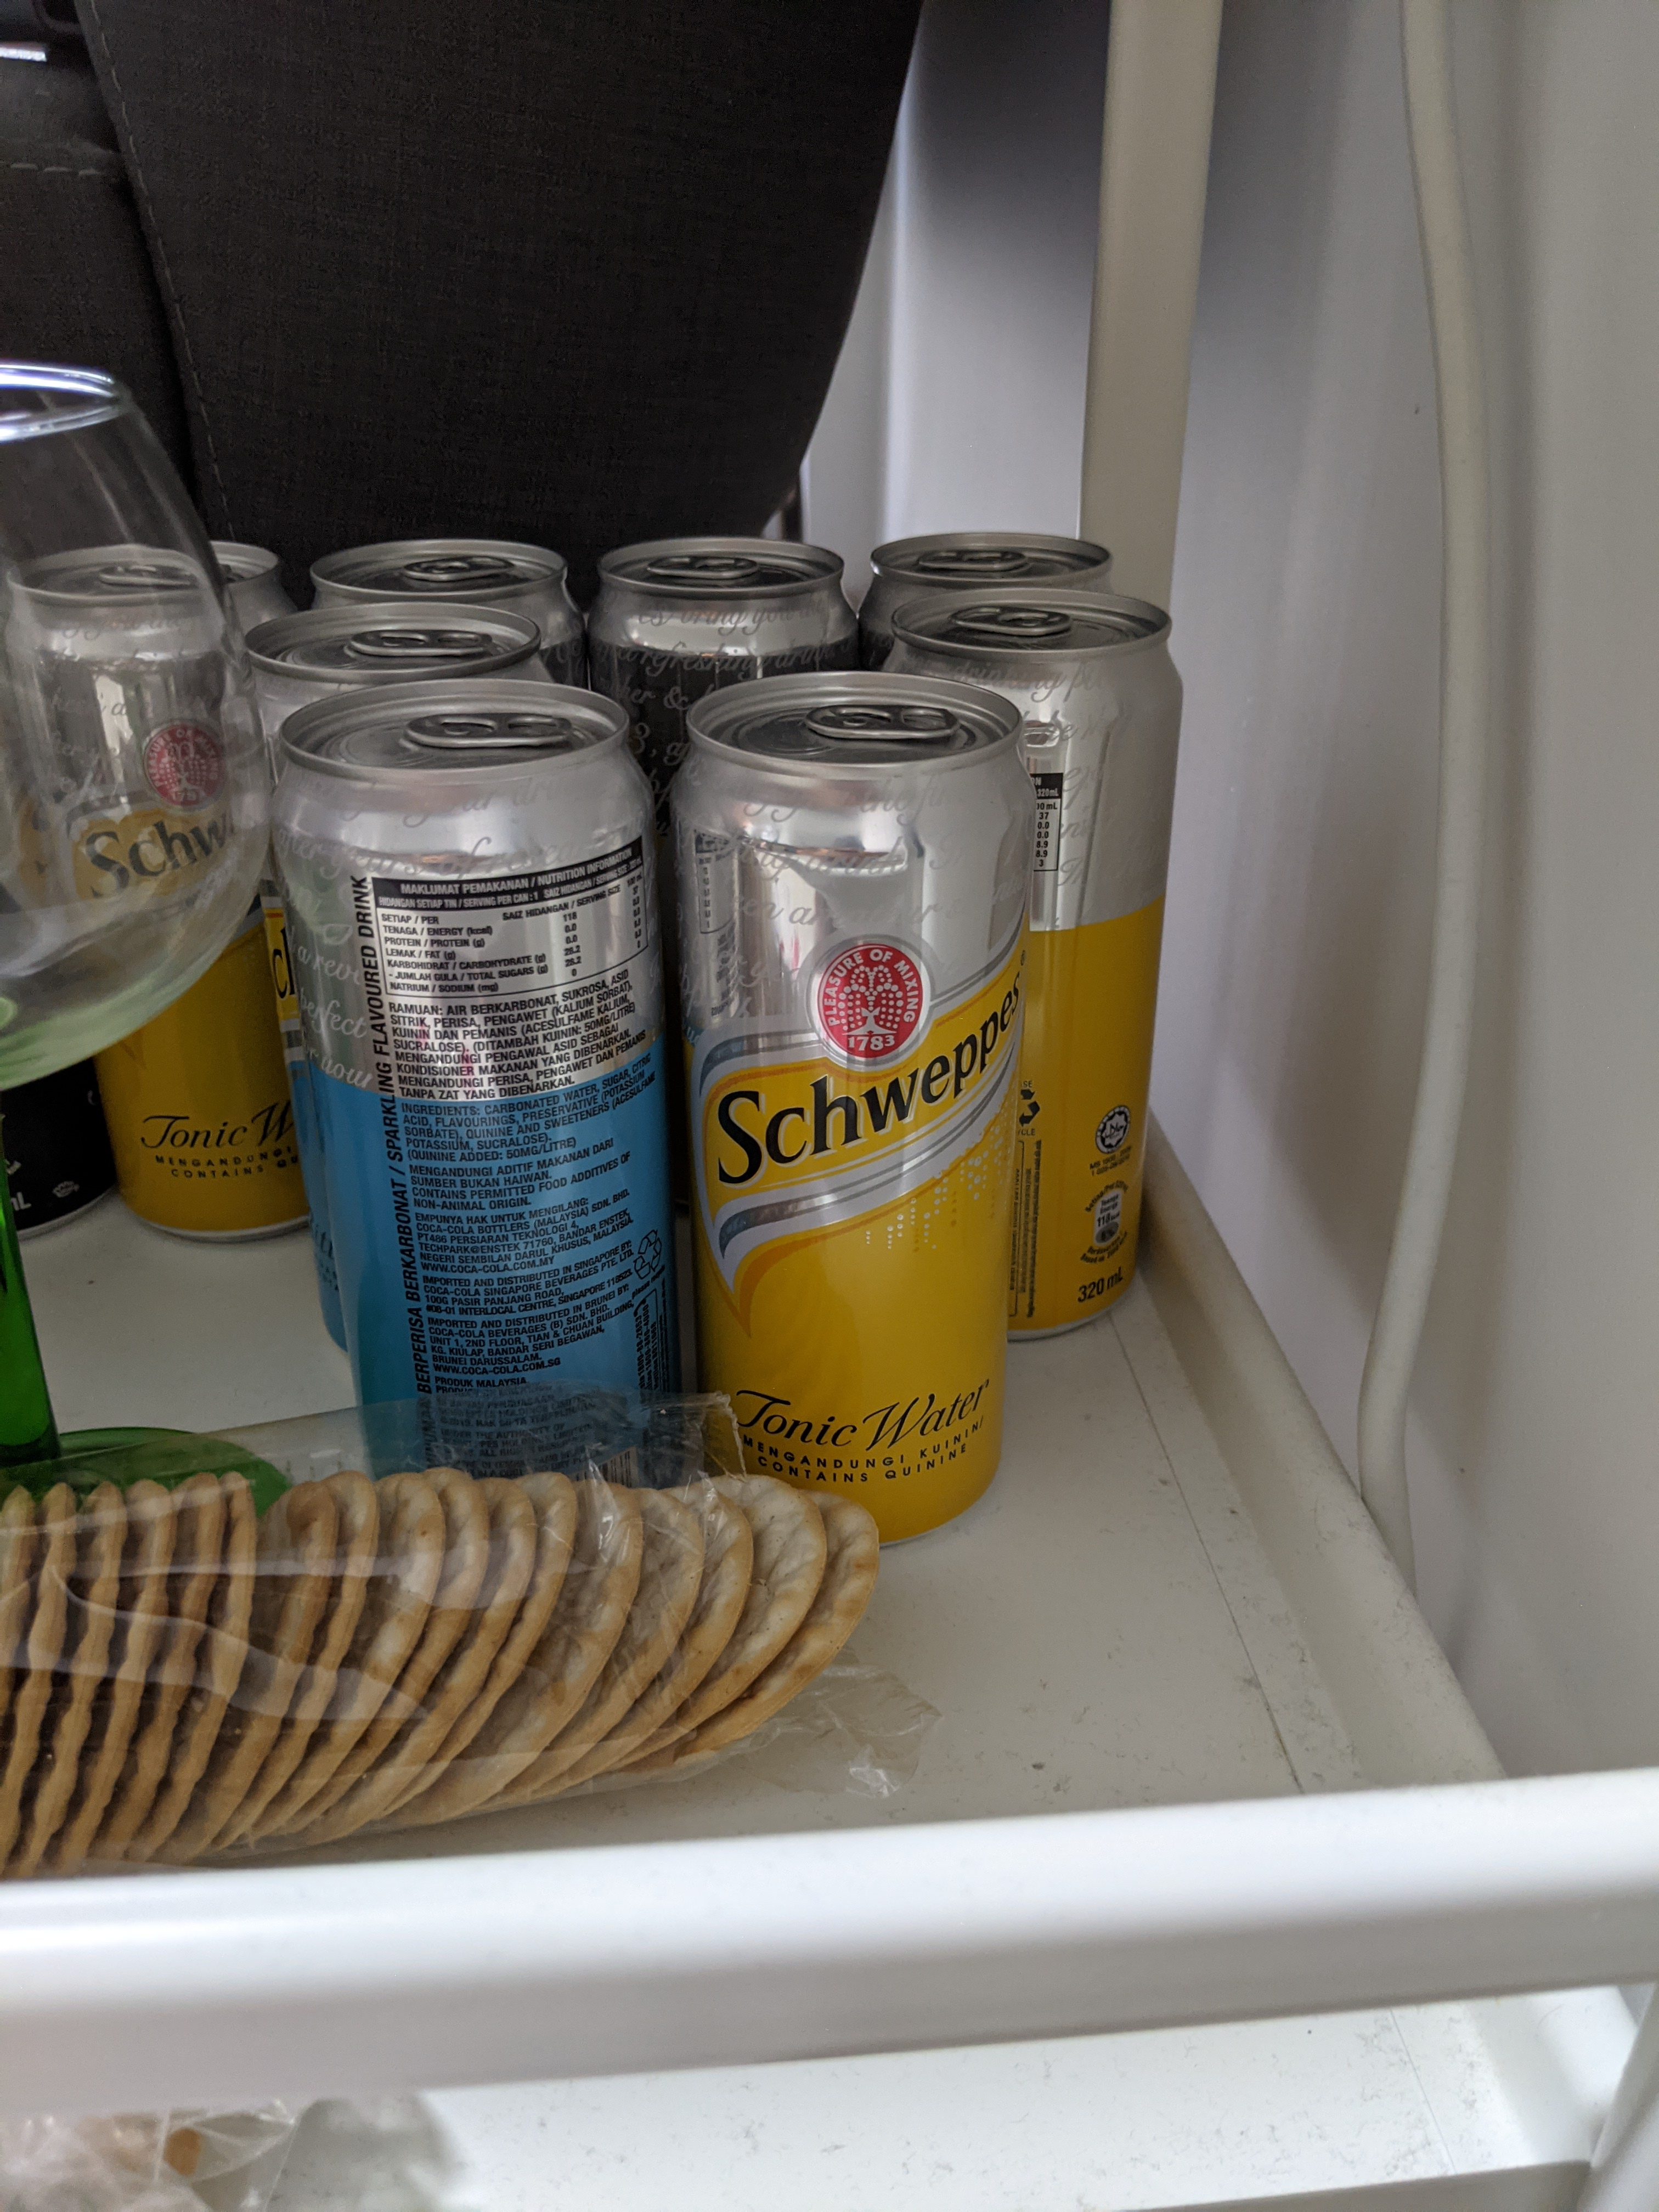schweppes drink can tonic water: (652, 664, 1047, 1568)
